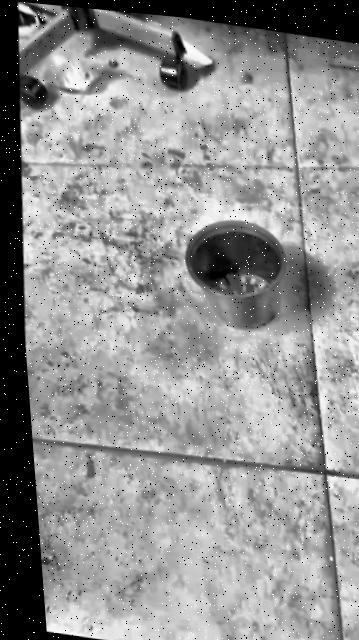pot: (177, 212, 291, 335)
